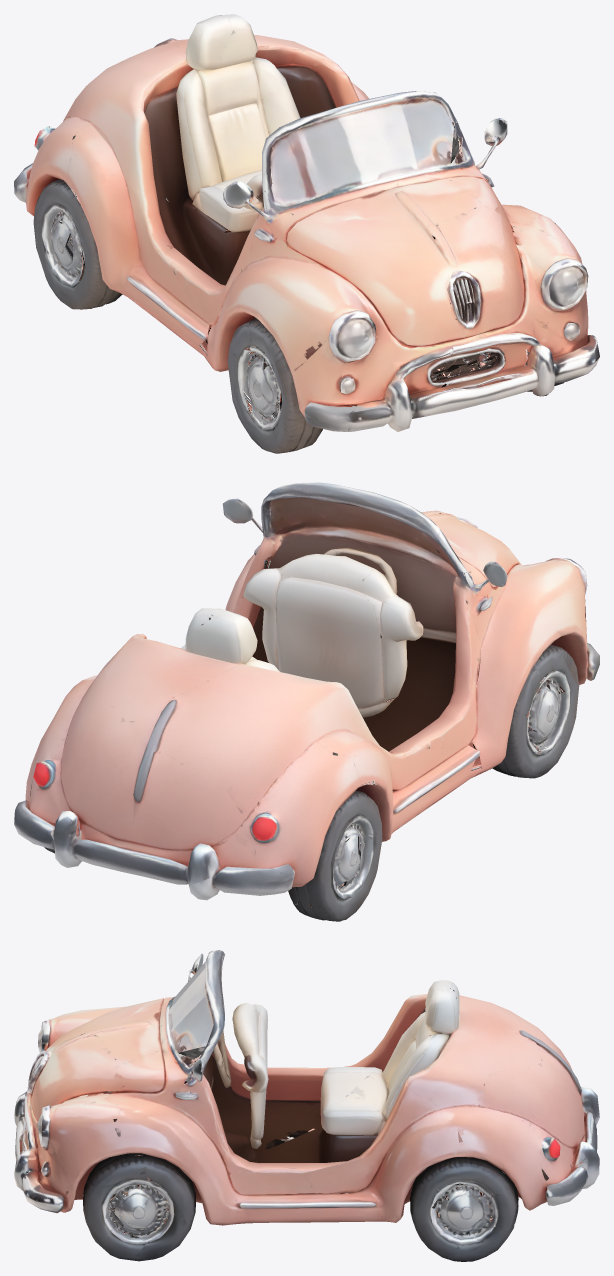
File: mochi-mobile.glb
The picture shows the model from 3 angles, top to bottom: view 1: azimuth 30°, elevation 25°; view 2: azimuth 150°, elevation 25°; view 3: azimuth 270°, elevation 25°; orthographic projection. The views are drawn at different scales.
Visible parts, largest first — view 1: model; view 2: model; view 3: model.
Boxes of the visible parts, box(x1,y1,x2,y2) form: model: box(14, 14, 599, 453); model: box(14, 482, 599, 921); model: box(14, 950, 599, 1261).
Size of the model in its own units: 0.9434 by 0.8387 by 1.9.
1 material, 1 textured.
